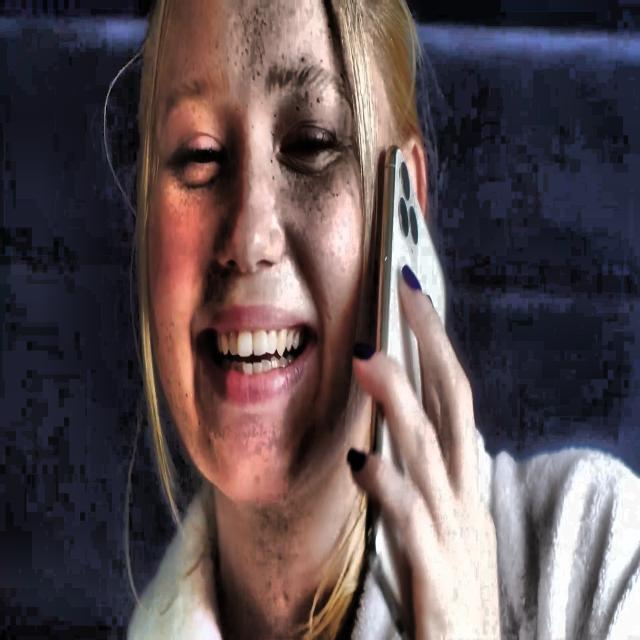Phone: (366, 141, 448, 640)
